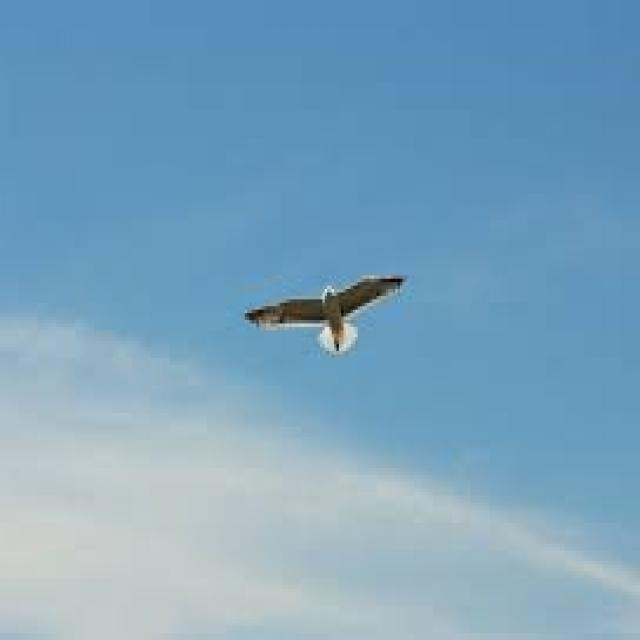bird: (236, 267, 417, 359)
